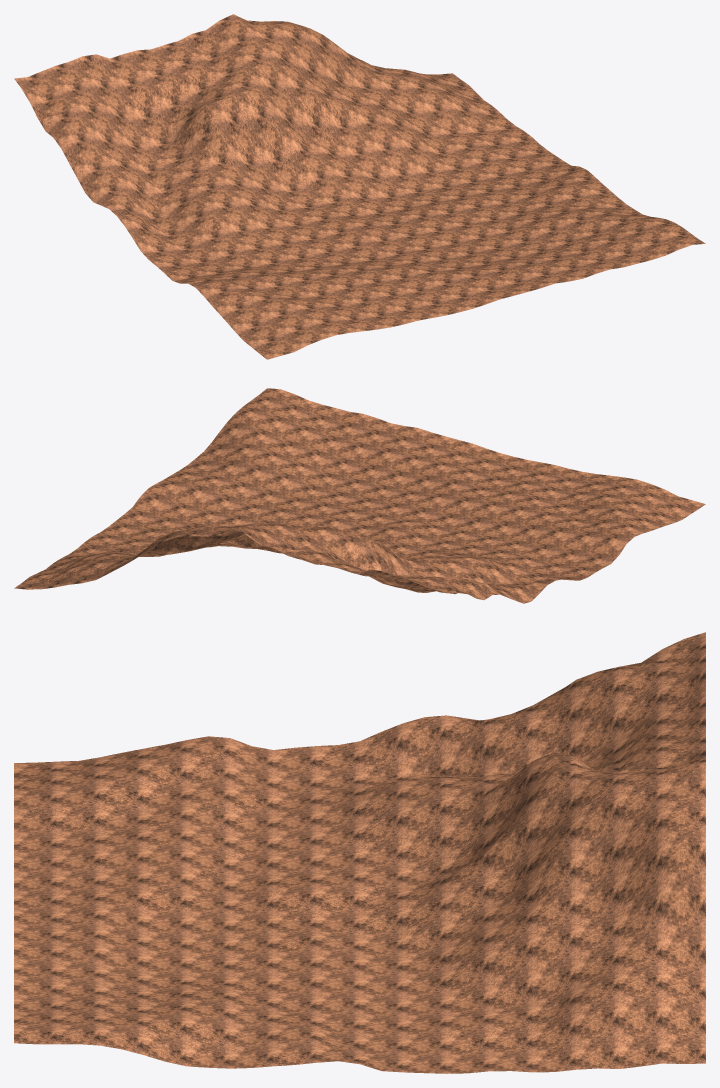
File: terrain_04_04.dae
3 views of the same model, one above another, from view 1: azimuth 30°, elevation 25°; view 2: azimuth 150°, elevation 25°; view 3: azimuth 270°, elevation 25° (orthographic). The views are drawn at different scales.
Visible parts, largest first — view 1: terrain_04_04-node; view 2: terrain_04_04-node; view 3: terrain_04_04-node.
Part boxes in pixels (x1,y1,x2,y2): terrain_04_04-node: (14,14,705,359); terrain_04_04-node: (14,388,705,603); terrain_04_04-node: (14,632,705,1073).
Bounding box in the file's own units: 128 × 128 × 33.5.
Materials: 1 (1 with a texture image).
